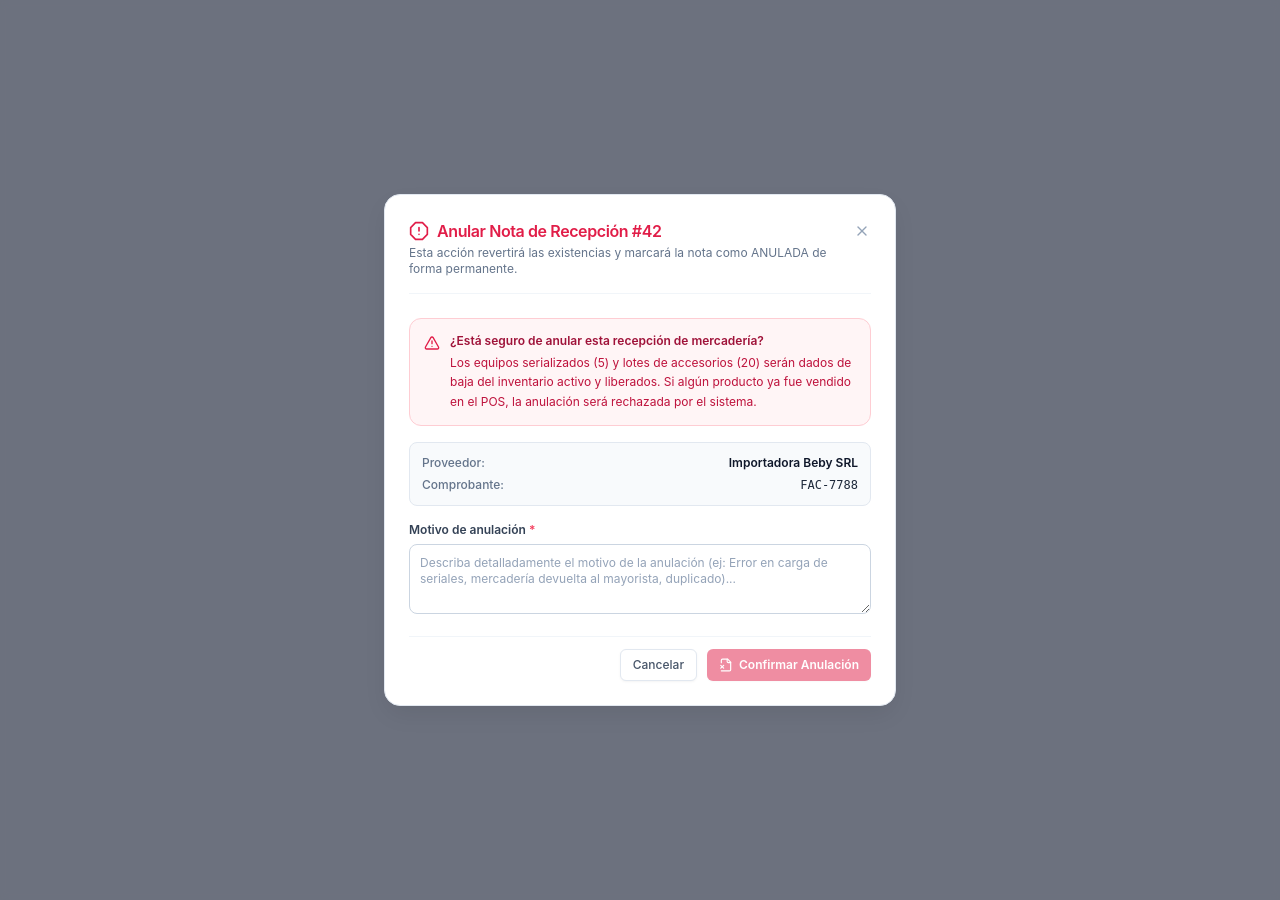
Test: ModalAnularRecepcion - Anulación Protegida con Motivo Obligatorio › el botón de confirmar anulación debe estar deshabilitado si el motivo tiene menos de 5 caracteres
The image size is (1280, 900).
Check: the button "Confirmar Anulación" is disabled, box x1=707 y1=649 x2=871 y2=681
Replace the text in the text box with placeholder "Describa detalladamente el motivo" with "Err" at (640,579), box x1=409 y1=544 x2=871 y2=614
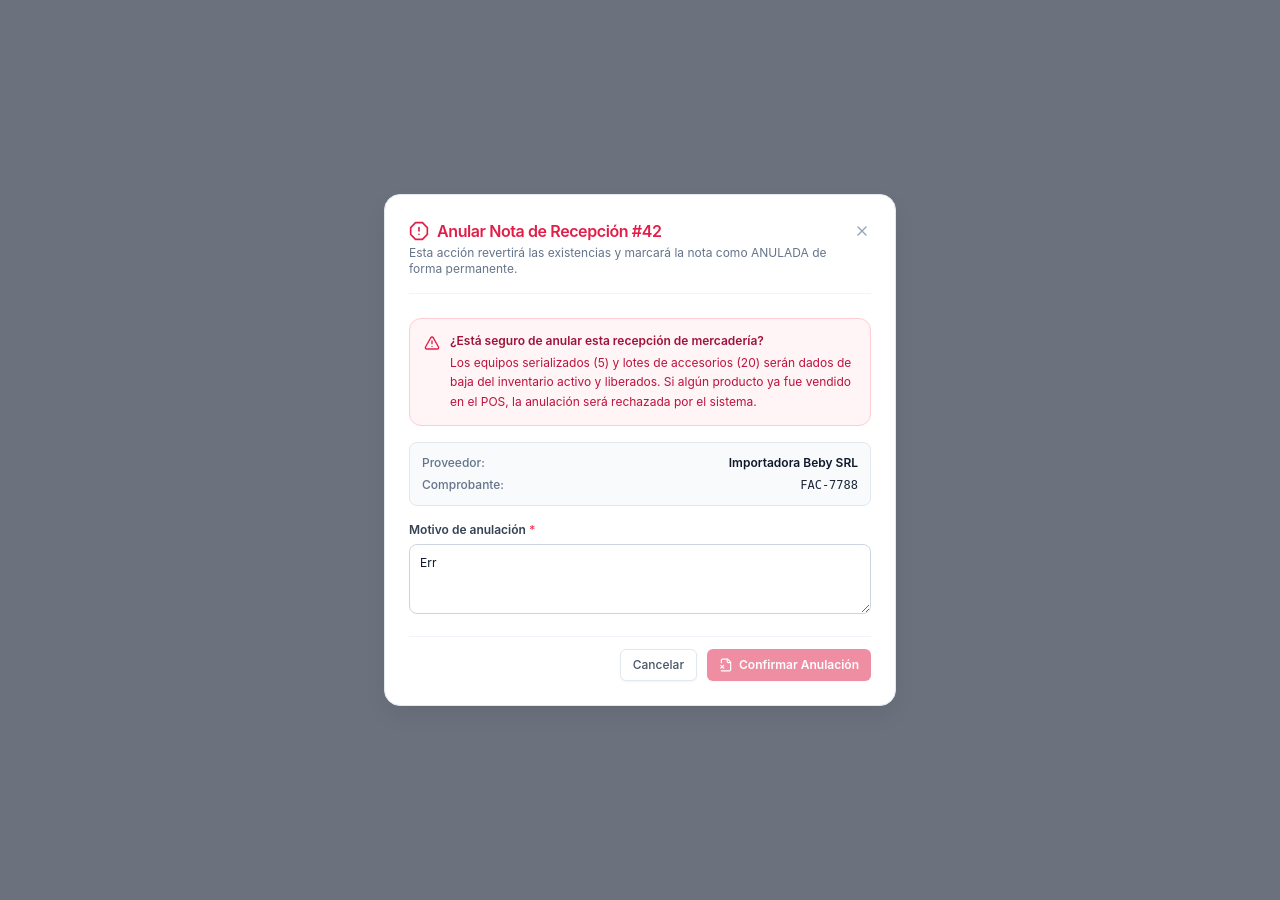
Check: the button "Confirmar Anulación" is disabled, box x1=707 y1=649 x2=871 y2=681
Replace the text in the text box with placeholder "Describa detalladamente el motivo" with "Error en remisión de carga" at (640,579), box x1=409 y1=544 x2=871 y2=614
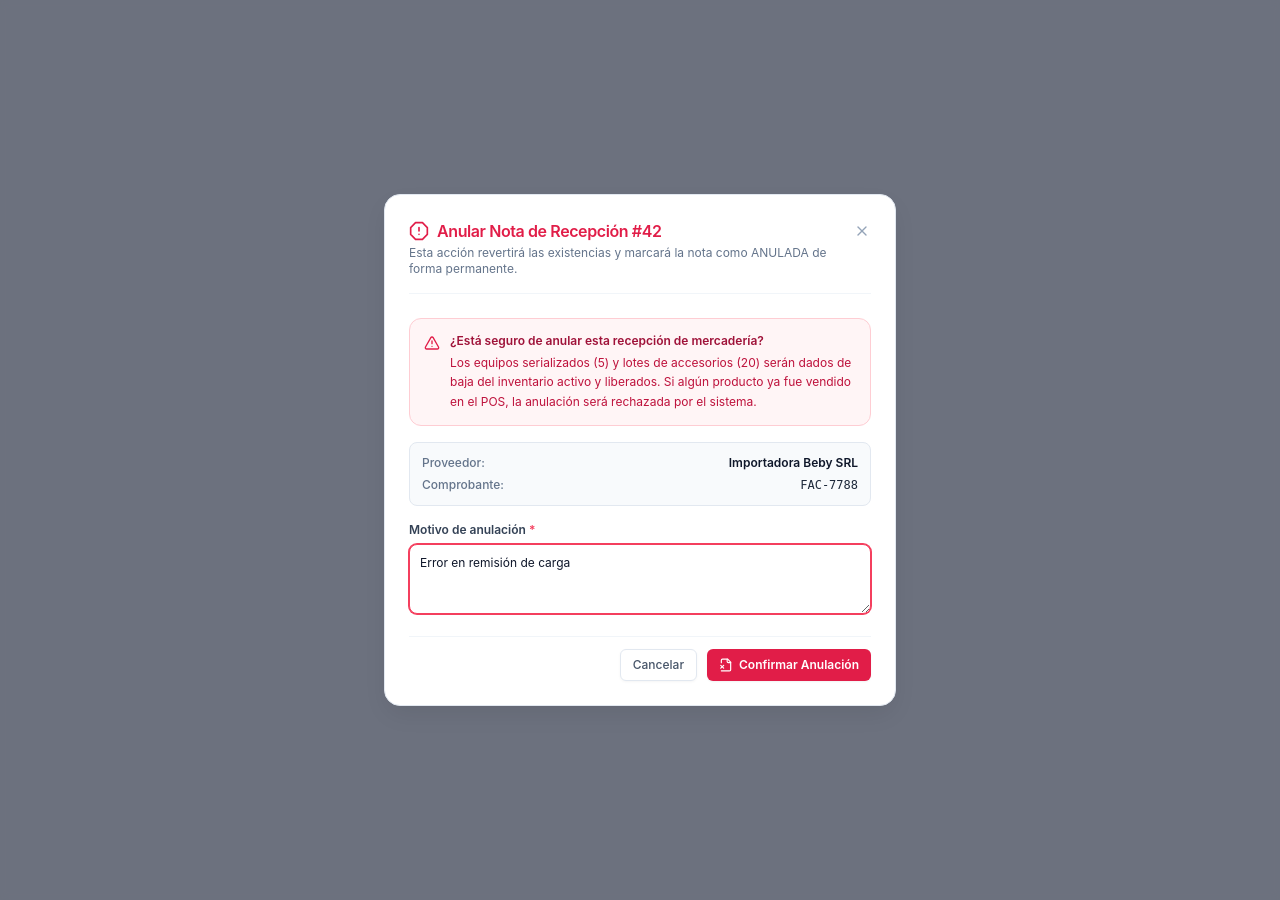
Check: the button "Confirmar Anulación" is enabled, box x1=707 y1=649 x2=871 y2=681
